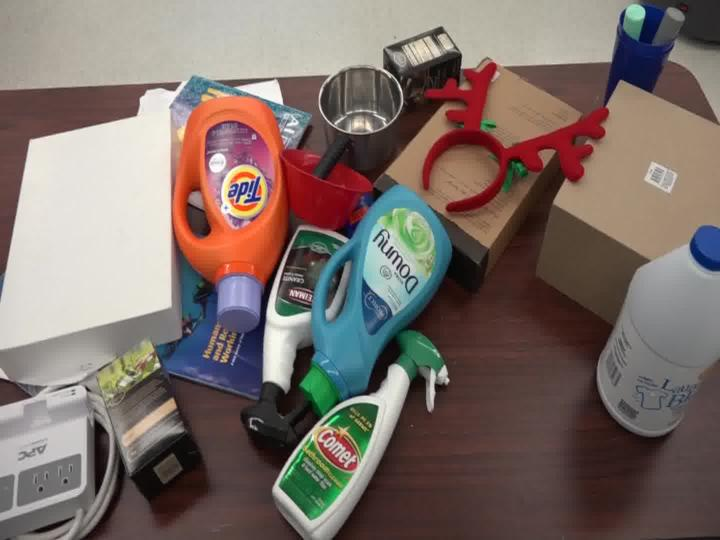tide: (148, 83, 298, 333)
